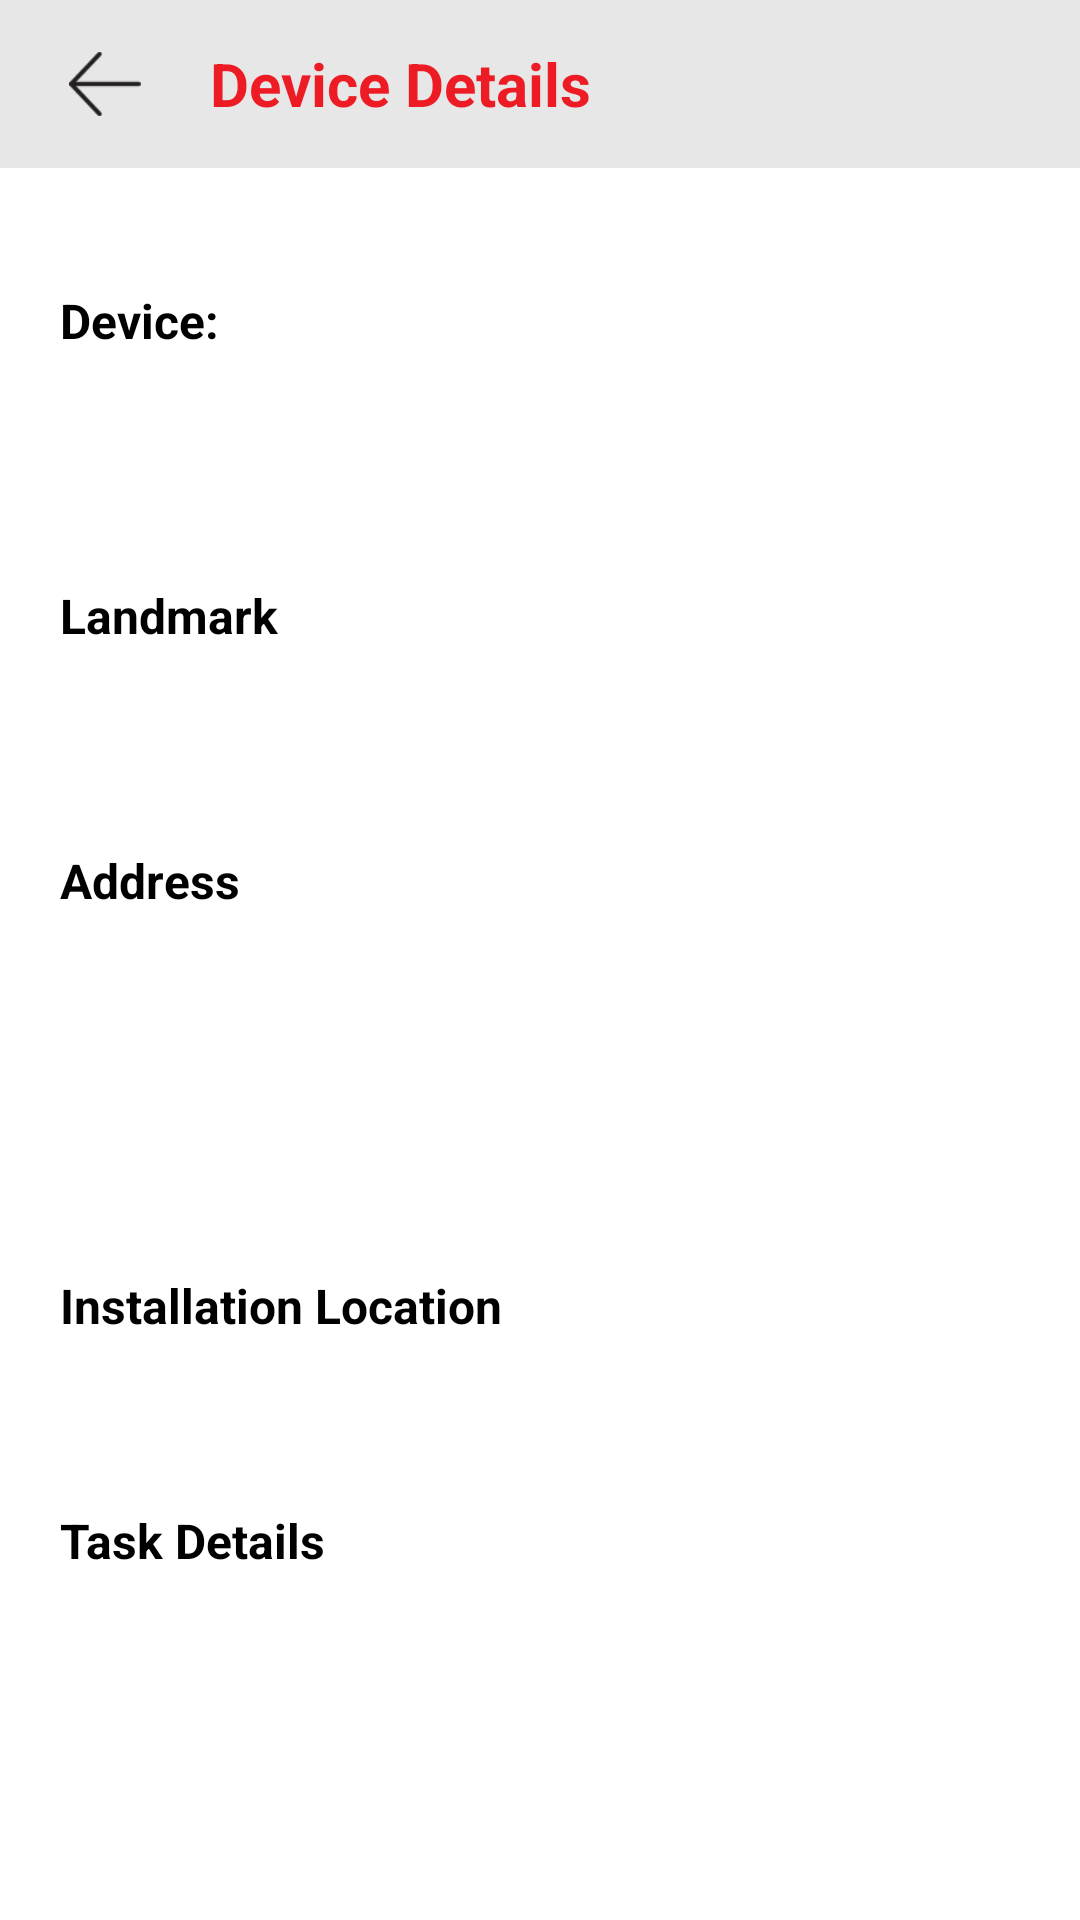

Screen size 1080*1920. Icon name, then its box in pixels as (x1, y1, x2, y2):
back: (69, 52, 141, 116)
